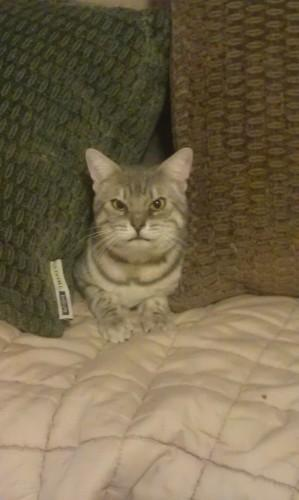bengal: (74, 136, 205, 265)
